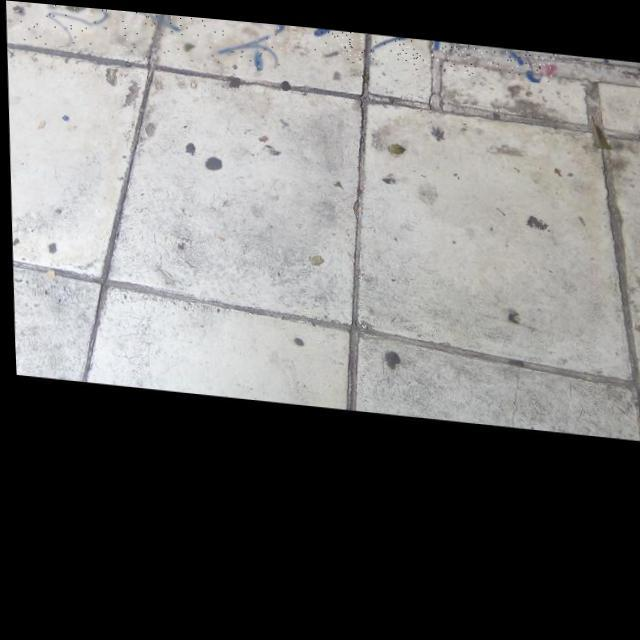-: (18, 1, 286, 64), (313, 22, 559, 74)
